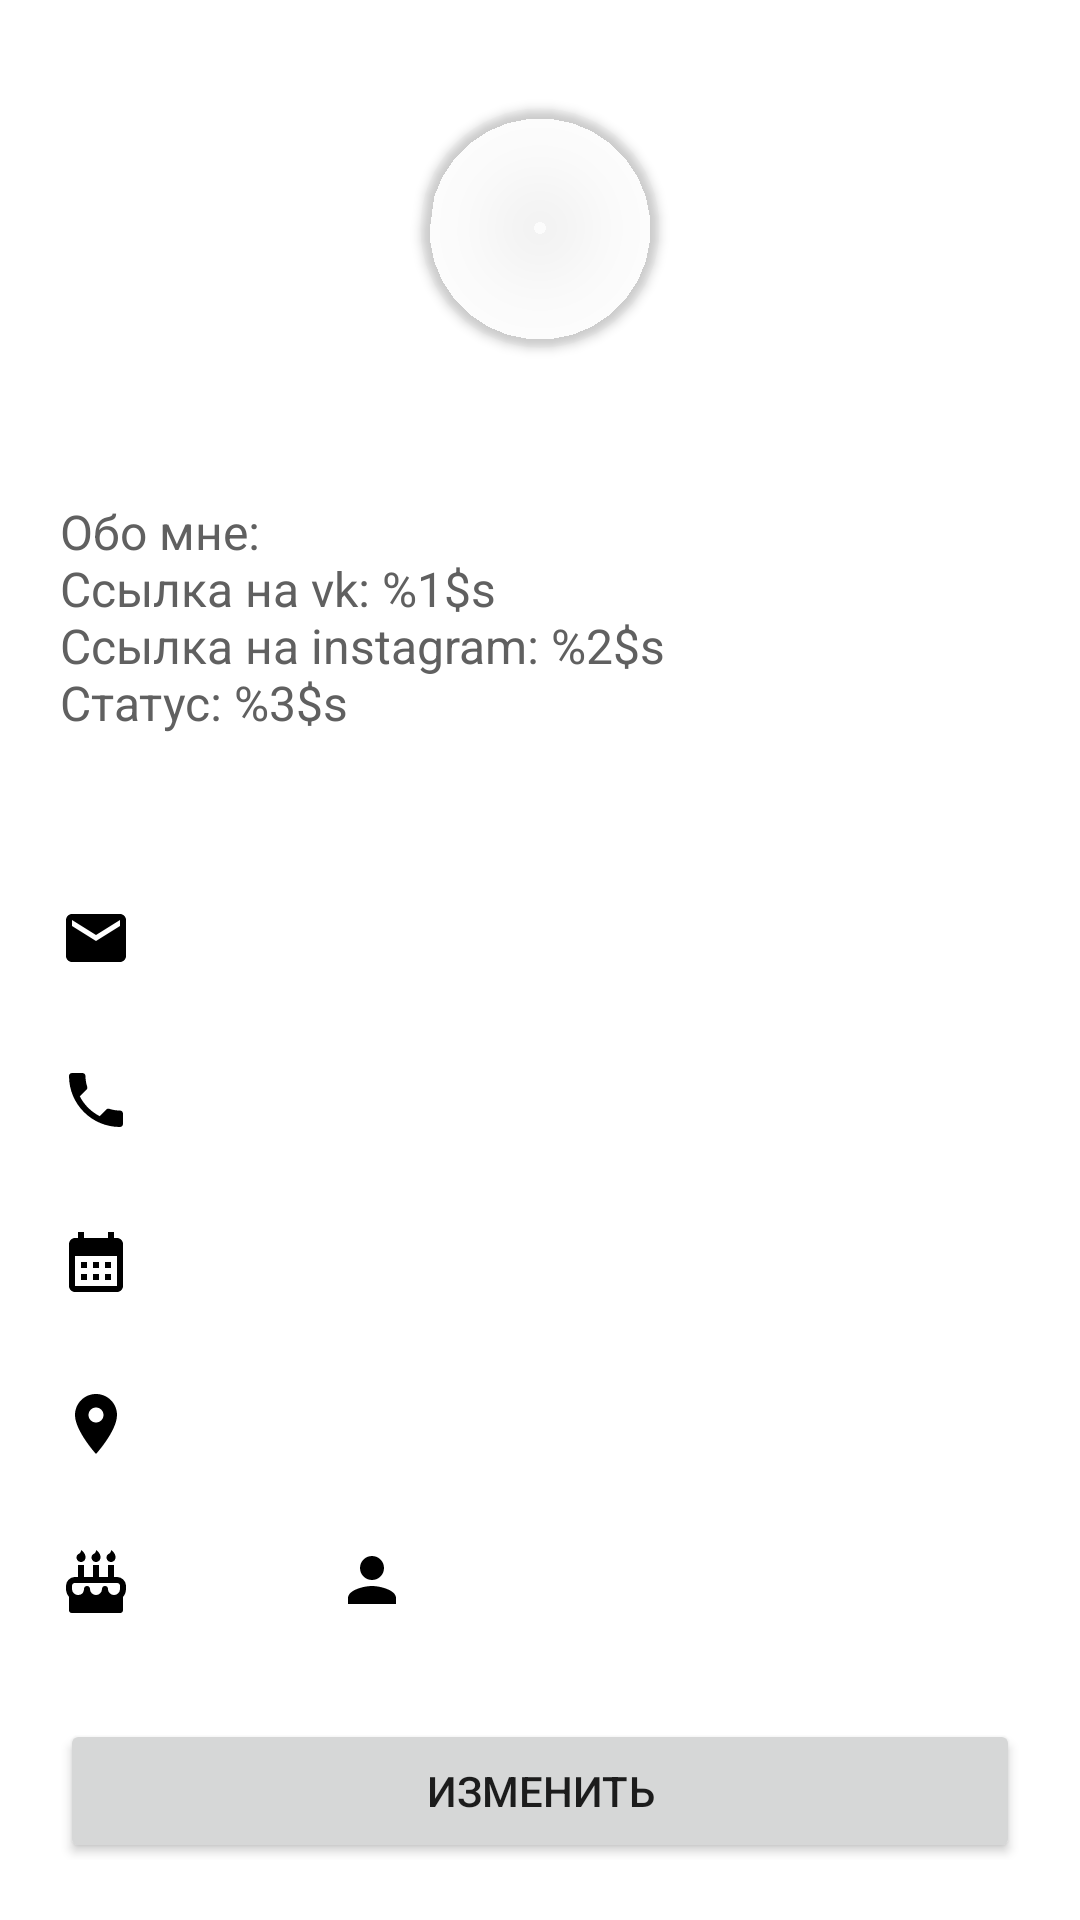

Named icons in this screenshot (1080px x 1920px) and their bounding boxes, (x1, y1, x2, y2):
cake: (66, 1550, 126, 1613)
calendar: (69, 1232, 123, 1292)
email: (66, 914, 126, 962)
location: (75, 1394, 117, 1454)
person: (348, 1556, 396, 1604)
phone: (69, 1073, 123, 1127)
